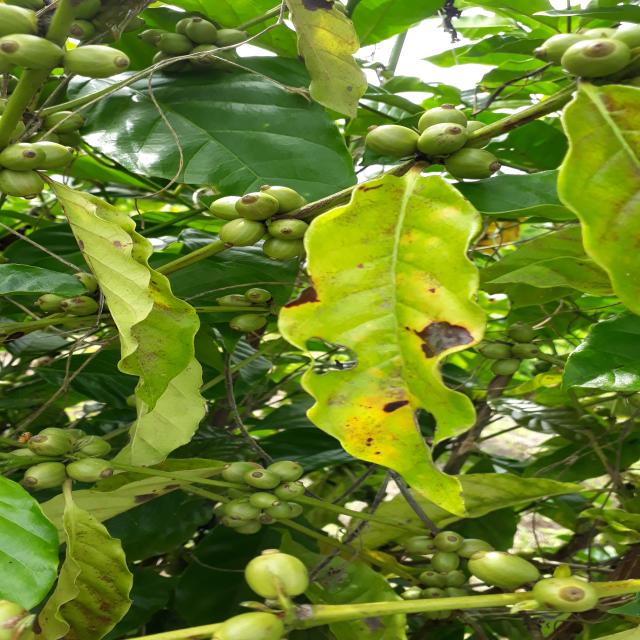Enfermedad-Roya: (282, 173, 491, 515)
